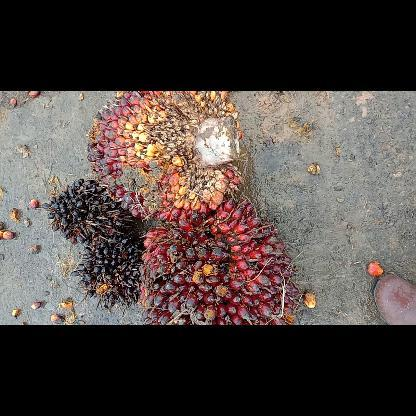TBS abnormal: (40, 176, 138, 246), (68, 240, 146, 312)
TBS masak: (86, 92, 244, 224), (138, 196, 300, 324)
